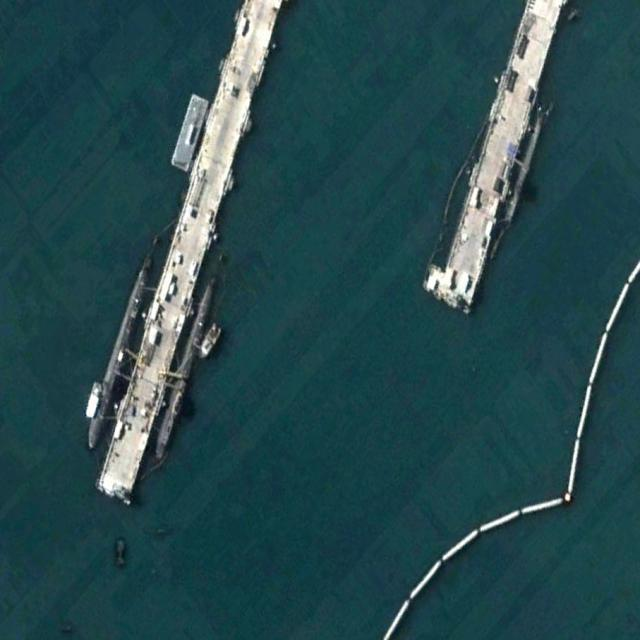Submarine: (83, 229, 165, 456), (150, 265, 224, 466)
